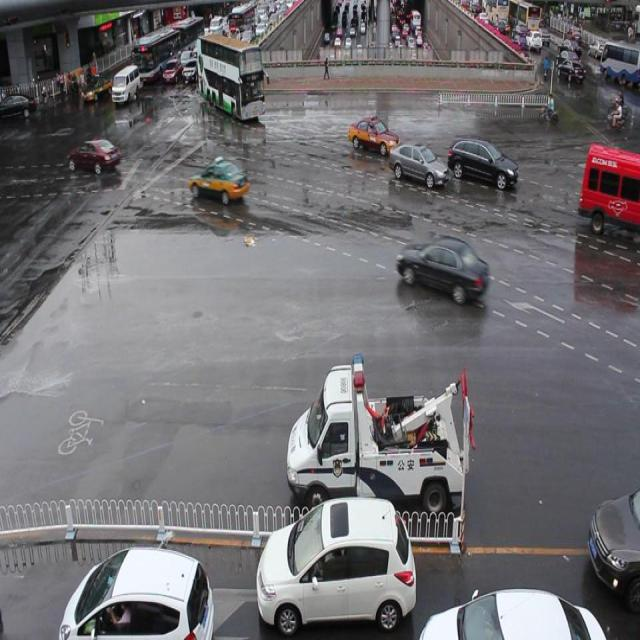bus: (287, 352, 473, 521)
car: (255, 494, 415, 633), (57, 541, 213, 640), (418, 584, 604, 640), (586, 485, 640, 609), (395, 235, 487, 303), (446, 138, 518, 190), (386, 140, 449, 188), (189, 158, 247, 206), (348, 115, 398, 156)
truck: (579, 140, 640, 236)
van: (195, 34, 266, 120)
